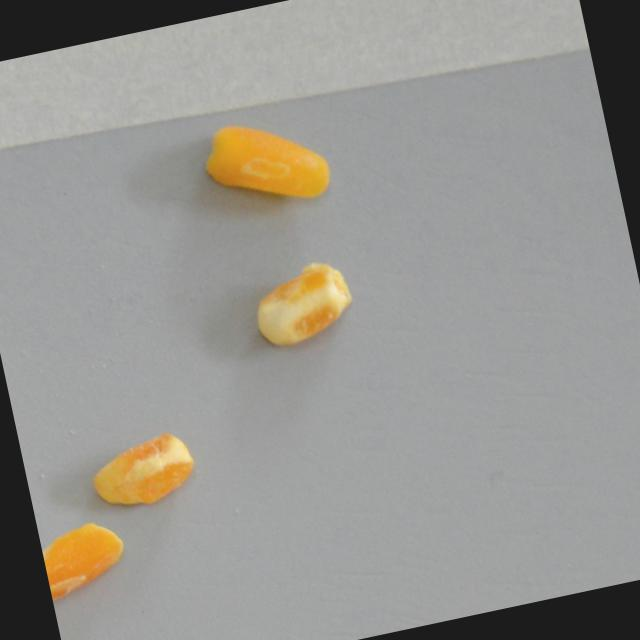dañado: (196, 103, 335, 219), (83, 425, 201, 517)
pelicula: (237, 250, 376, 354), (37, 510, 134, 605)
